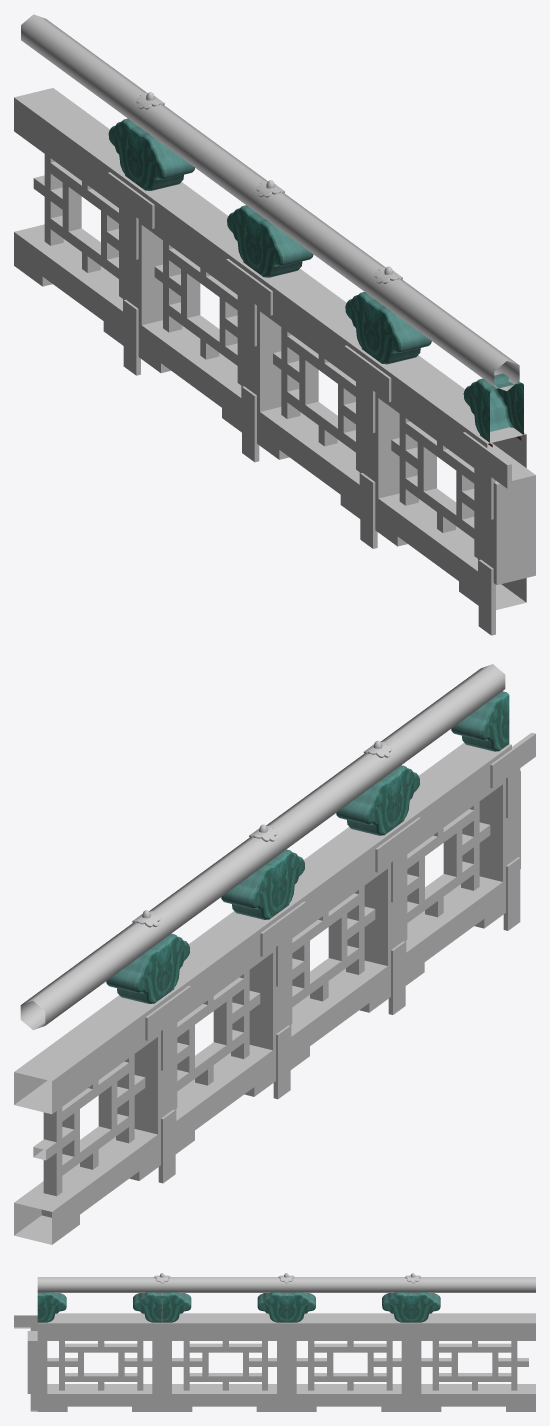
File: SM_Handrail01B.fbx
The picture shows the model from 3 angles, top to bottom: view 1: azimuth 30°, elevation 25°; view 2: azimuth 150°, elevation 25°; view 3: azimuth 270°, elevation 25°; orthographic projection. The views are drawn at different scales.
Visible parts, largest first — view 1: SM_Handrail01B; view 2: SM_Handrail01B; view 3: SM_Handrail01B.
Boxes of the visible parts, left/top/right/bottom form: SM_Handrail01B: left=14, top=14, right=535, bottom=635; SM_Handrail01B: left=14, top=664, right=535, bottom=1244; SM_Handrail01B: left=14, top=1273, right=535, bottom=1411.
Bounding box in the file's own units: 6.64 × 137 × 41.55.
